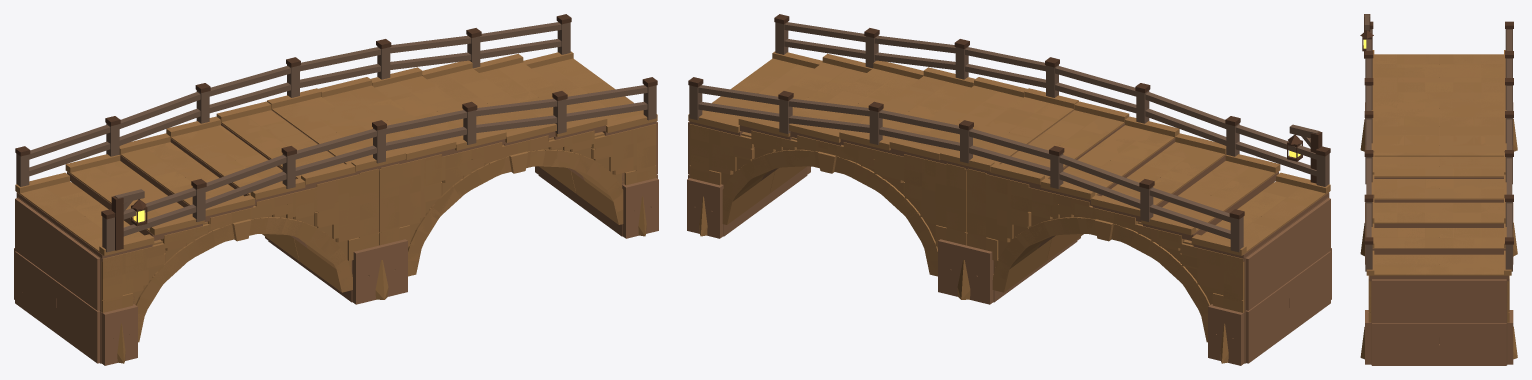
The model's file is bridge_stone_a.glb.
The picture shows the model from 3 angles, left to right: view 1: azimuth 30°, elevation 25°; view 2: azimuth 150°, elevation 25°; view 3: azimuth 270°, elevation 25°; orthographic projection. The views are drawn at different scales.
Visible parts, largest first — view 1: bridge_stone_a_LOD0_bridge, bridge_stone_a_LOD1_bridge, bridge_stone_a_LOD2_bridge; view 2: bridge_stone_a_LOD0_bridge, bridge_stone_a_LOD1_bridge, bridge_stone_a_LOD2_bridge; view 3: bridge_stone_a_LOD0_bridge, bridge_stone_a_LOD1_bridge, bridge_stone_a_LOD2_bridge.
Part boxes in pixels (box(x1,y1,x2,y2)): bridge_stone_a_LOD0_bridge: box(14, 14, 658, 365); bridge_stone_a_LOD1_bridge: box(14, 15, 658, 365); bridge_stone_a_LOD2_bridge: box(14, 60, 658, 365); bridge_stone_a_LOD0_bridge: box(687, 14, 1331, 365); bridge_stone_a_LOD1_bridge: box(687, 14, 1331, 365); bridge_stone_a_LOD2_bridge: box(687, 60, 1331, 365); bridge_stone_a_LOD0_bridge: box(1360, 14, 1517, 365); bridge_stone_a_LOD1_bridge: box(1362, 14, 1513, 365); bridge_stone_a_LOD2_bridge: box(1365, 54, 1513, 365).
Size of the model in its own units: 14.37 by 4.26 by 4.29.
